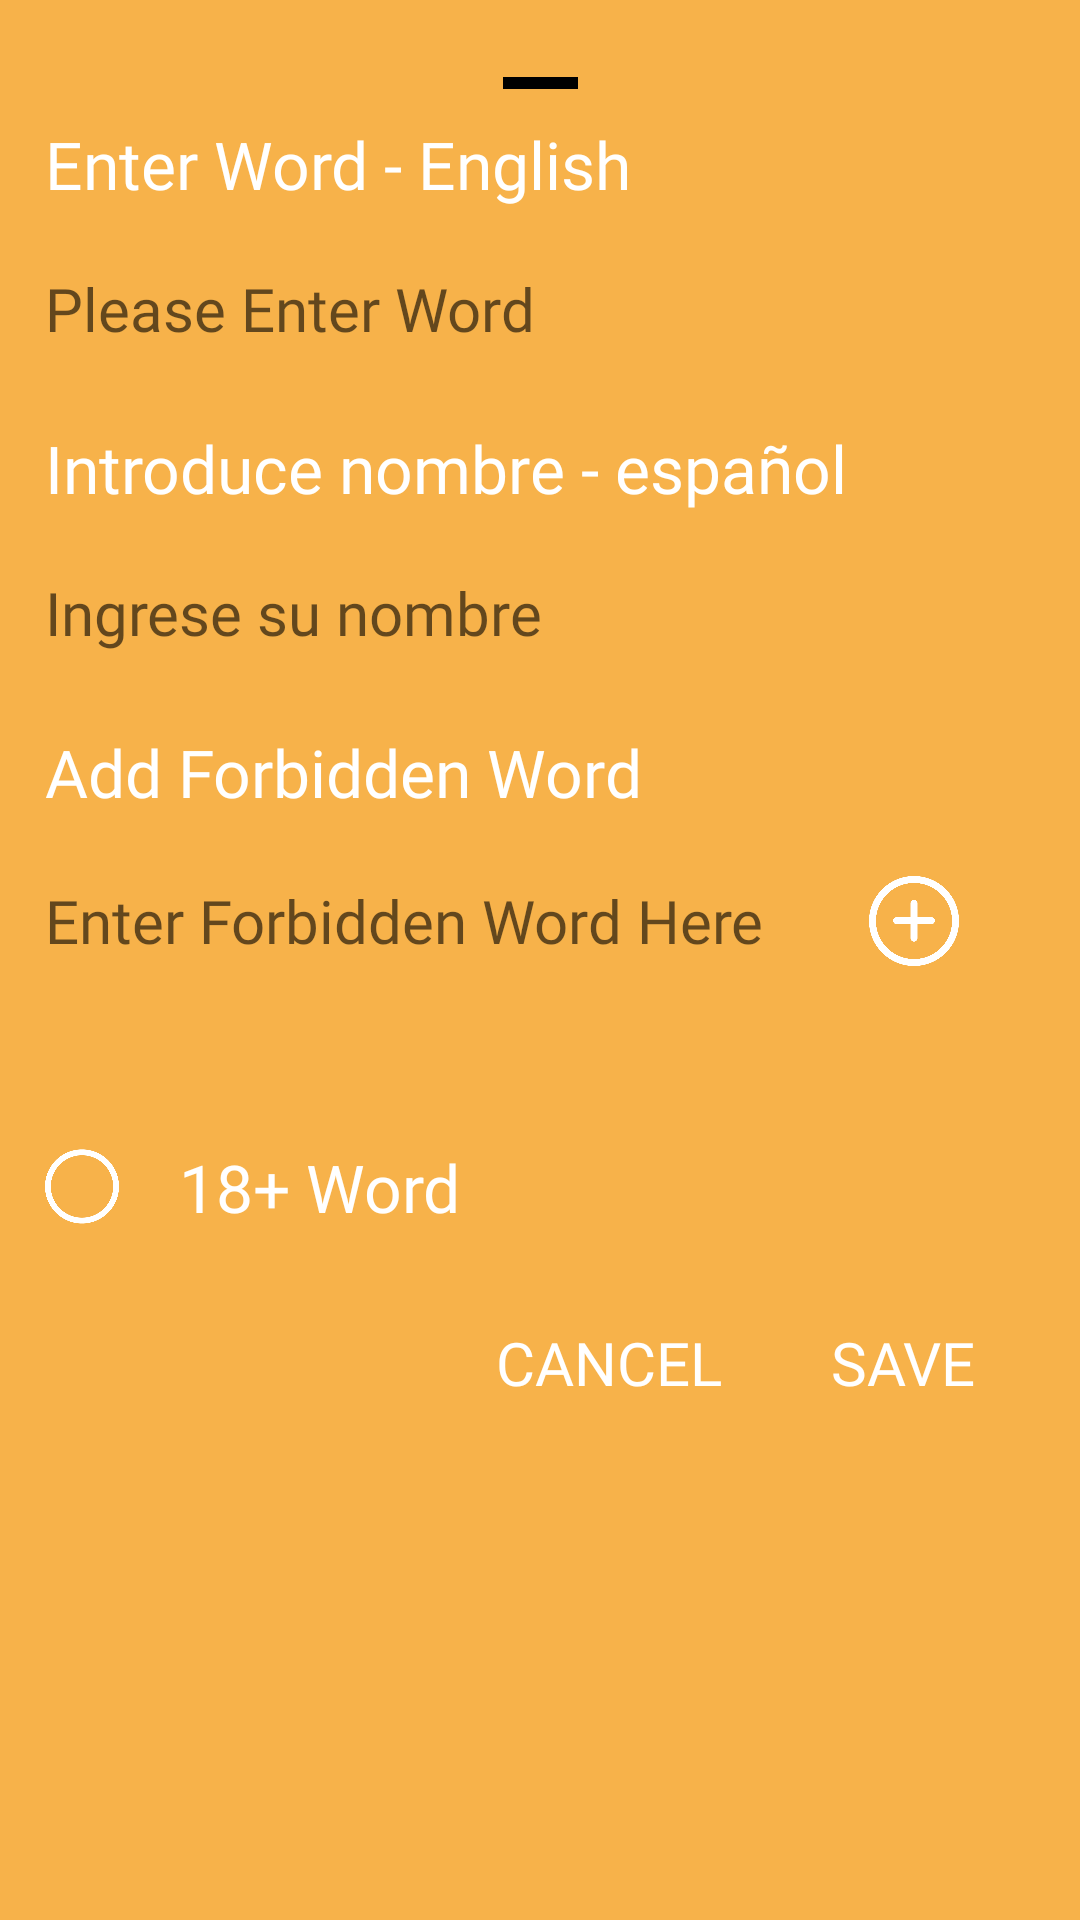

Screen size 1080px x 1920px. Icon name, then its box in pixels as (x1, y1, x2, y2):
add: (869, 876, 959, 966)
uncheck: (45, 1149, 119, 1224)
